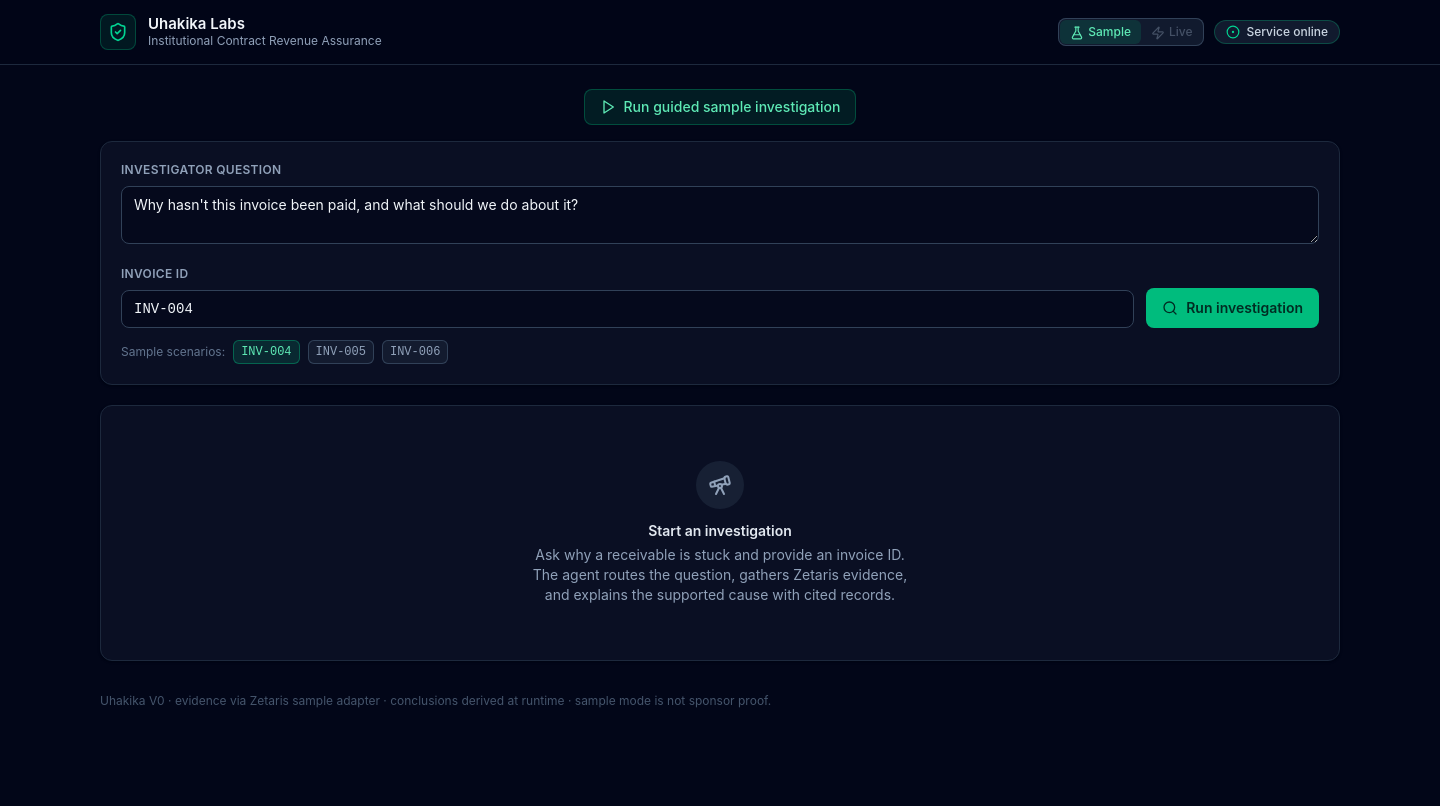
Test: Result cards render server values (no hardcoded conclusions) › displays revenue and cause from mocked API response
What coordinates should you click on to do the following:
click the button "Run guided sample investigation"
I would click on:
 (720, 107)
Its box is [584,89,856,125].
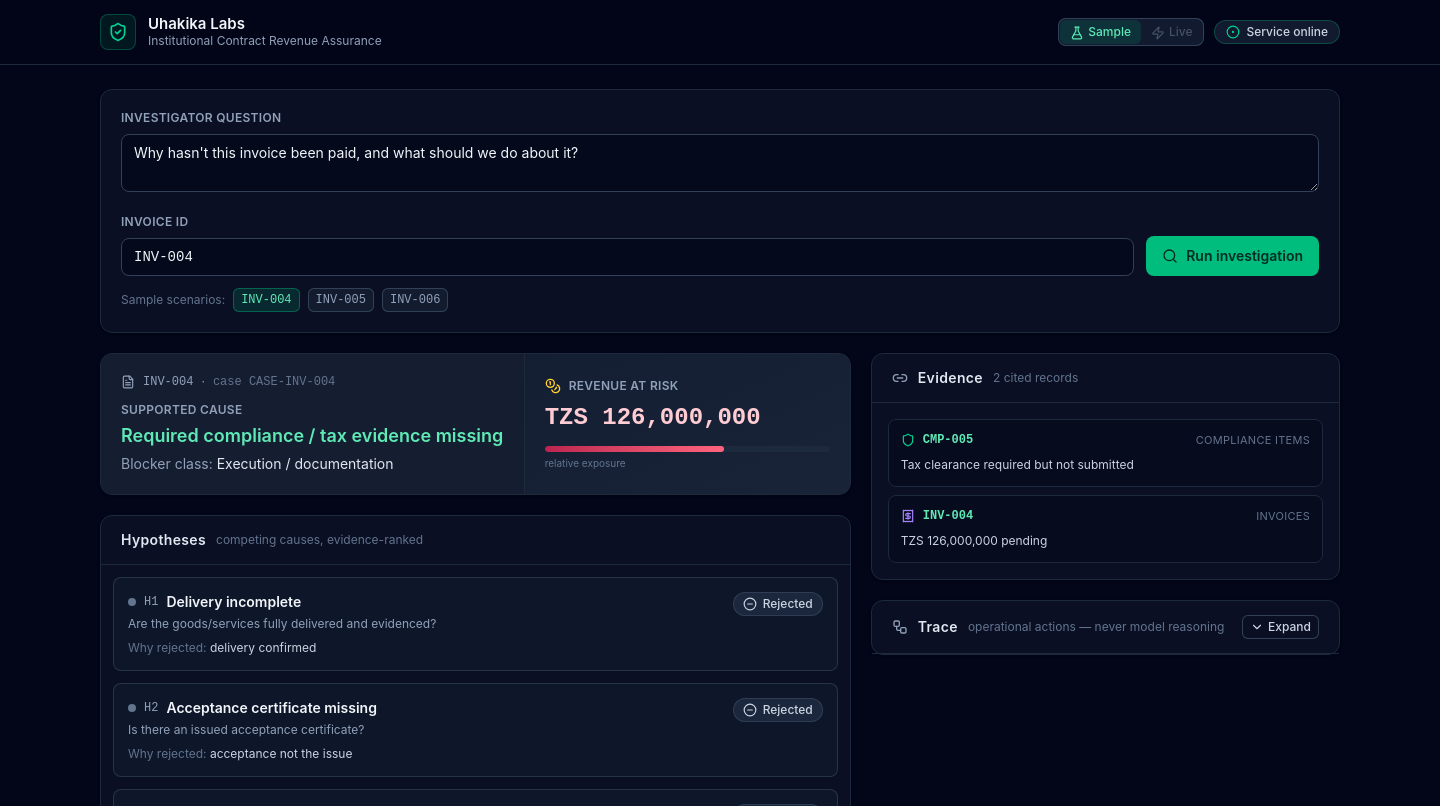
expect the text "TZS 126,000,000" is shown: met, box [545,404,761,430]
expect the text "Required compliance / tax evidence missing" is shown: met, box [121,422,504,450]
